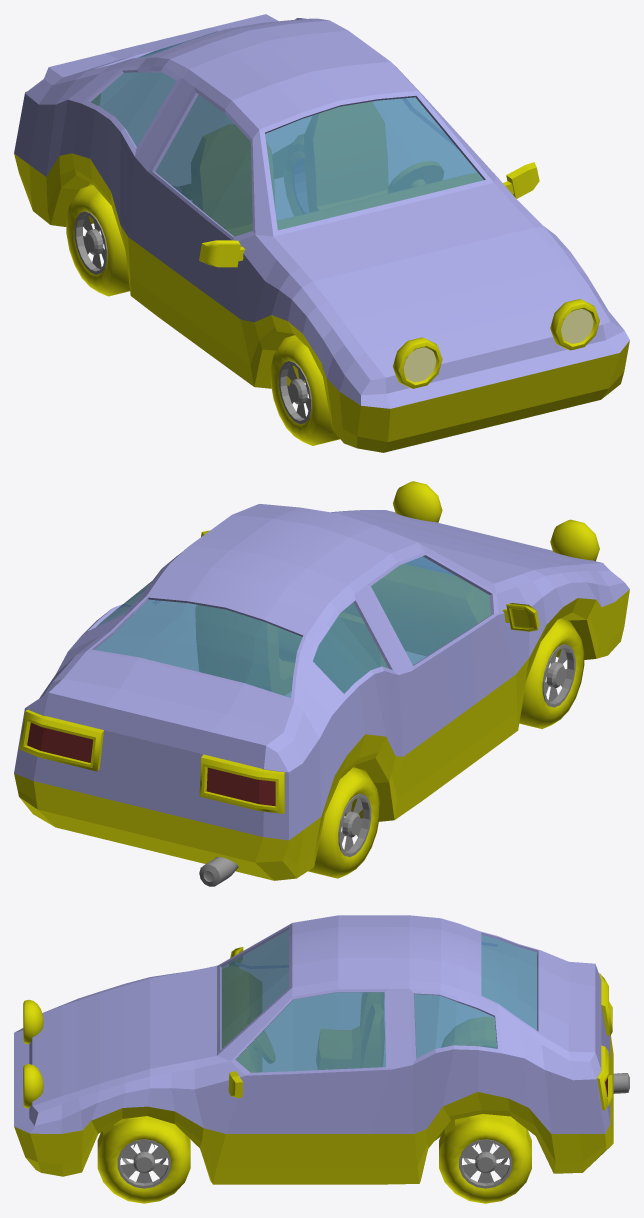
File: toyo_evo1_blue_light_gold.glb
3 views of the same model, one above another, from view 1: azimuth 30°, elevation 25°; view 2: azimuth 150°, elevation 25°; view 3: azimuth 270°, elevation 25° (orthographic). The views are drawn at different scales.
Visible parts, largest first — view 1: body:PIV, glass_front:PIV, glass_rf:PIV, seat_l:PIV, seat_r:PIV, tire_rb:PIV, tire_rf:PIV, glass_rb:PIV, int_front_bloc3:PIV, rim_rb:PIV, rim_rf:PIV, headlight_rf:PIV (+7 smaller); view 2: body:PIV, glass_back:PIV, glass_rf:PIV, int_front_bloc3:PIV, seat_l:PIV, glass_rb:PIV, tire_rb:PIV, tire_rf:PIV, seat_r:PIV, backlight_rb, backlight_lb, backlight_glass_rb:PIV (+8 smaller); view 3: body:PIV, glass_lf:PIV, tire_lb:PIV, glass_front:PIV, tire_lf:PIV, glass_back:PIV, glass_lb:PIV, int_front_bloc3:PIV, seat_r:PIV, rim_lf:PIV, rim_lb:PIV, tire_rb:PIV (+6 smaller).
Part boxes in pixels (left/top/right/bottom): body:PIV: left=14, top=14, right=629, bottom=452; glass_front:PIV: left=265, top=97, right=483, bottom=230; glass_rf:PIV: left=155, top=94, right=252, bottom=236; seat_l:PIV: left=304, top=102, right=387, bottom=211; seat_r:PIV: left=191, top=125, right=274, bottom=235; tire_rb:PIV: left=66, top=185, right=129, bottom=296; tire_rf:PIV: left=270, top=335, right=339, bottom=445; glass_rb:PIV: left=90, top=72, right=175, bottom=146; int_front_bloc3:PIV: left=277, top=173, right=481, bottom=229; rim_rb:PIV: left=74, top=211, right=107, bottom=274; rim_rf:PIV: left=279, top=361, right=311, bottom=424; headlight_rf:PIV: left=393, top=337, right=442, bottom=388; body:PIV: left=14, top=504, right=629, bottom=880; glass_back:PIV: left=94, top=599, right=302, bottom=697; glass_rf:PIV: left=371, top=556, right=490, bottom=664; int_front_bloc3:PIV: left=343, top=564, right=490, bottom=655; seat_l:PIV: left=196, top=605, right=294, bottom=694; glass_rb:PIV: left=313, top=602, right=388, bottom=693; tire_rb:PIV: left=308, top=767, right=379, bottom=878; tire_rf:PIV: left=519, top=618, right=584, bottom=728; seat_r:PIV: left=313, top=613, right=387, bottom=692; backlight_rb: left=199, top=754, right=284, bottom=813; backlight_lb: left=19, top=709, right=103, bottom=771; backlight_glass_rb:PIV: left=206, top=767, right=275, bottom=806; body:PIV: left=14, top=915, right=613, bottom=1184; glass_lf:PIV: left=236, top=992, right=385, bottom=1072; tire_lb:PIV: left=439, top=1114, right=531, bottom=1203; glass_front:PIV: left=221, top=929, right=289, bottom=1048; tire_lf:PIV: left=97, top=1116, right=190, bottom=1203; glass_back:PIV: left=481, top=934, right=537, bottom=1030; glass_lb:PIV: left=414, top=994, right=497, bottom=1058; int_front_bloc3:PIV: left=222, top=966, right=261, bottom=1071; seat_r:PIV: left=316, top=993, right=383, bottom=1069; rim_lf:PIV: left=117, top=1139, right=170, bottom=1188; rim_lb:PIV: left=459, top=1139, right=512, bottom=1188; tire_rb:PIV: left=442, top=1017, right=496, bottom=1047.
Size of the model in its own units: 180 by 129 by 338.
